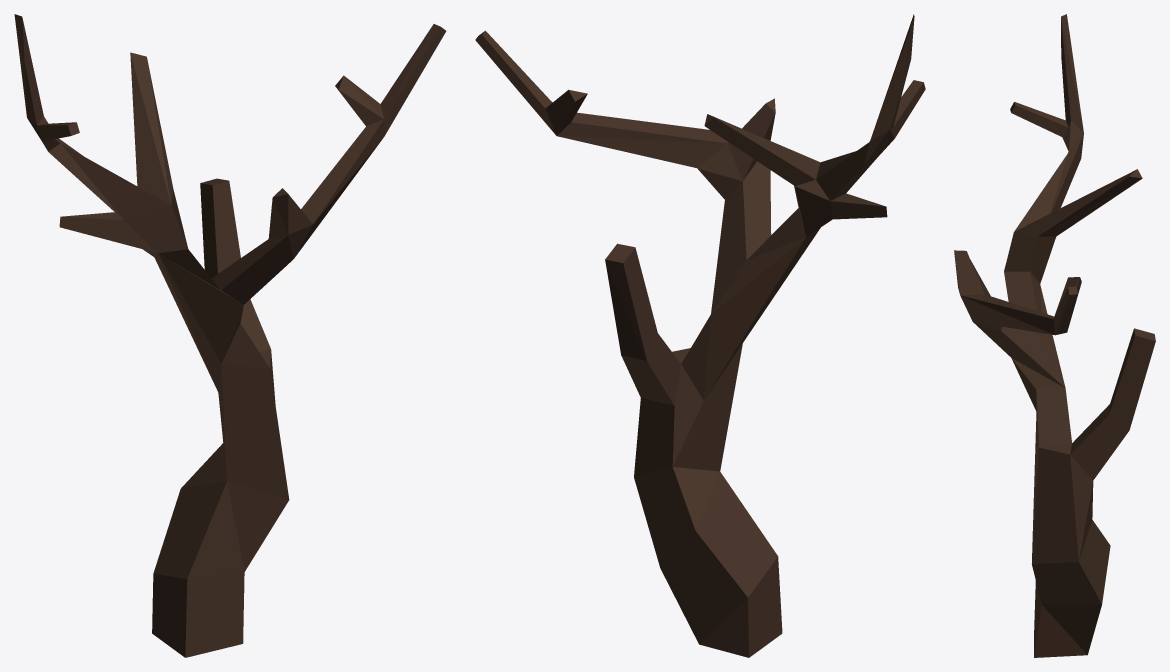
The model's file is No_leaf_Tree_001.fbx.
3 views of the same model, side by side, from view 1: azimuth 30°, elevation 25°; view 2: azimuth 150°, elevation 25°; view 3: azimuth 270°, elevation 25° (orthographic). The views are drawn at different scales.
Visible parts, largest first — view 1: No leaf Tree.001; view 2: No leaf Tree.001; view 3: No leaf Tree.001.
Boxes of the visible parts, x1,y1,x2,y2 form: No leaf Tree.001: (14,14,446,657); No leaf Tree.001: (475,14,925,657); No leaf Tree.001: (954,14,1155,657).
Size of the model in its own units: 961 by 1412 by 462.
